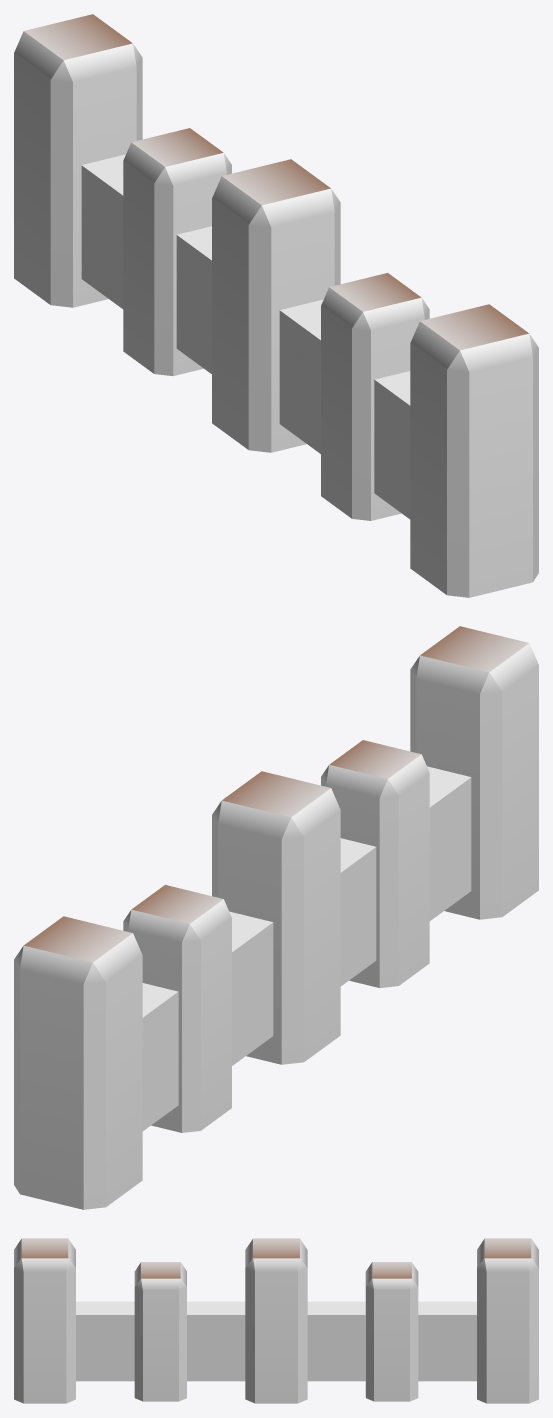
File: Wall_Lv1_2.fbx
3 views of the same model, one above another, from view 1: azimuth 30°, elevation 25°; view 2: azimuth 150°, elevation 25°; view 3: azimuth 270°, elevation 25° (orthographic). The views are drawn at different scales.
Visible parts, largest first — view 1: Wall; view 2: Wall; view 3: Wall.
Boxes of the visible parts, x1,y1,x2,y2 form: Wall: (14,14,538,597); Wall: (14,626,538,1209); Wall: (14,1238,538,1403).
Size of the model in its own units: 0.1786 by 0.4514 by 1.51.
